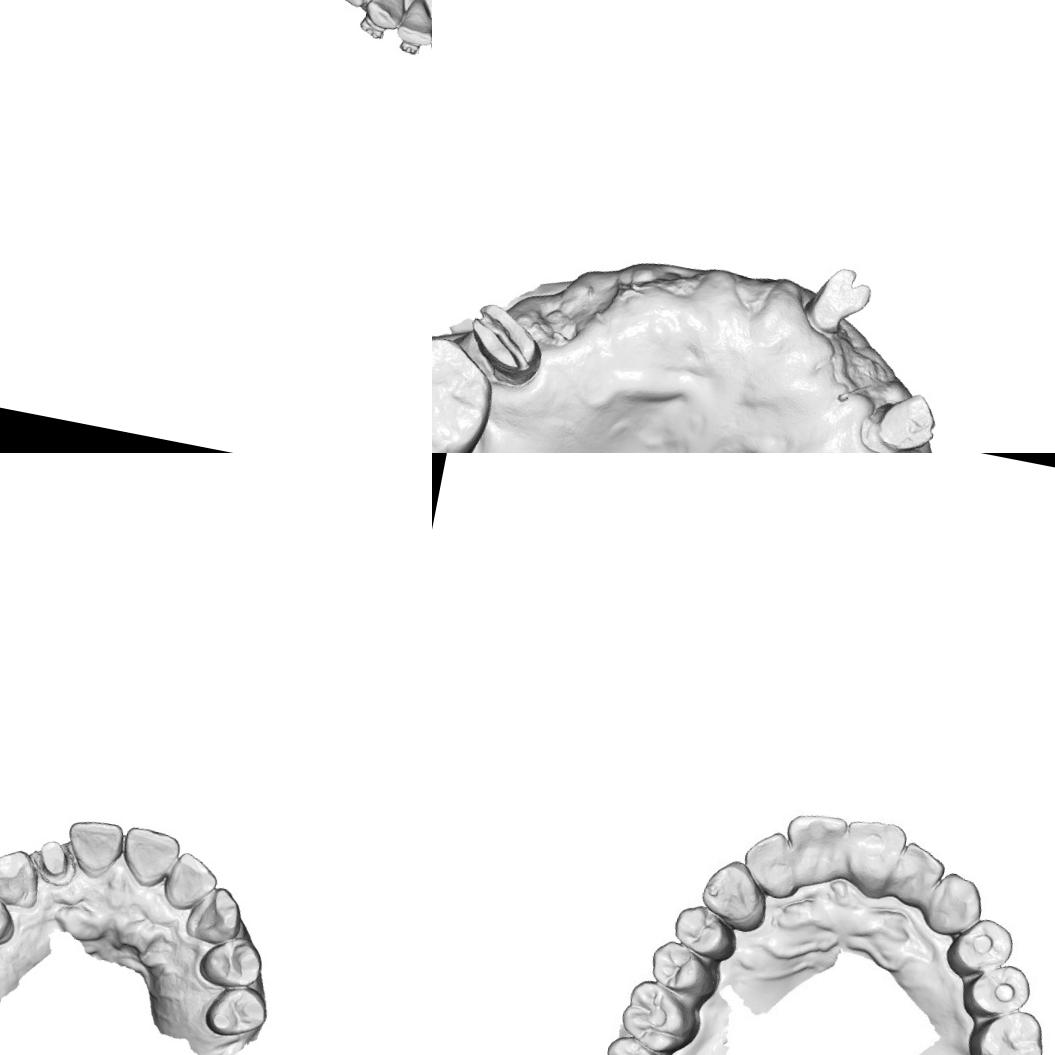canine: (698, 851, 772, 930), (919, 866, 987, 941), (180, 879, 252, 949), (0, 841, 47, 912), (359, 0, 409, 35)
crown: (457, 291, 554, 392), (796, 254, 882, 350), (861, 383, 943, 453), (34, 836, 75, 882)
incisor: (832, 810, 908, 902), (776, 804, 850, 884), (113, 822, 184, 896), (734, 826, 802, 900), (58, 812, 128, 882), (889, 836, 949, 914), (160, 846, 224, 916), (392, 0, 432, 49)
molar: (432, 319, 502, 453), (614, 973, 706, 1055), (961, 1000, 1051, 1055), (594, 1030, 679, 1055)
premolar: (940, 910, 1018, 990), (956, 955, 1036, 1030), (644, 936, 724, 1002), (193, 927, 270, 995), (199, 978, 272, 1045), (668, 900, 744, 963), (0, 883, 23, 949)
